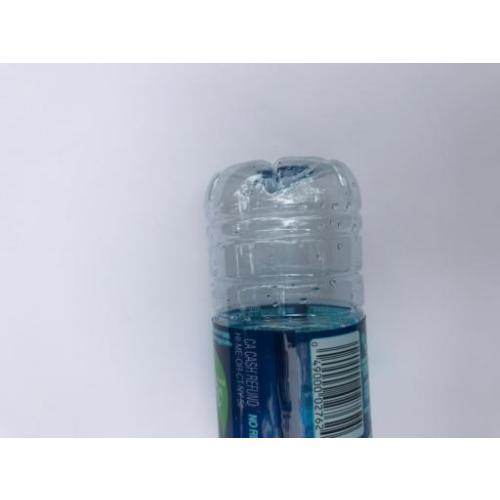plastic: (220, 156, 366, 440)
